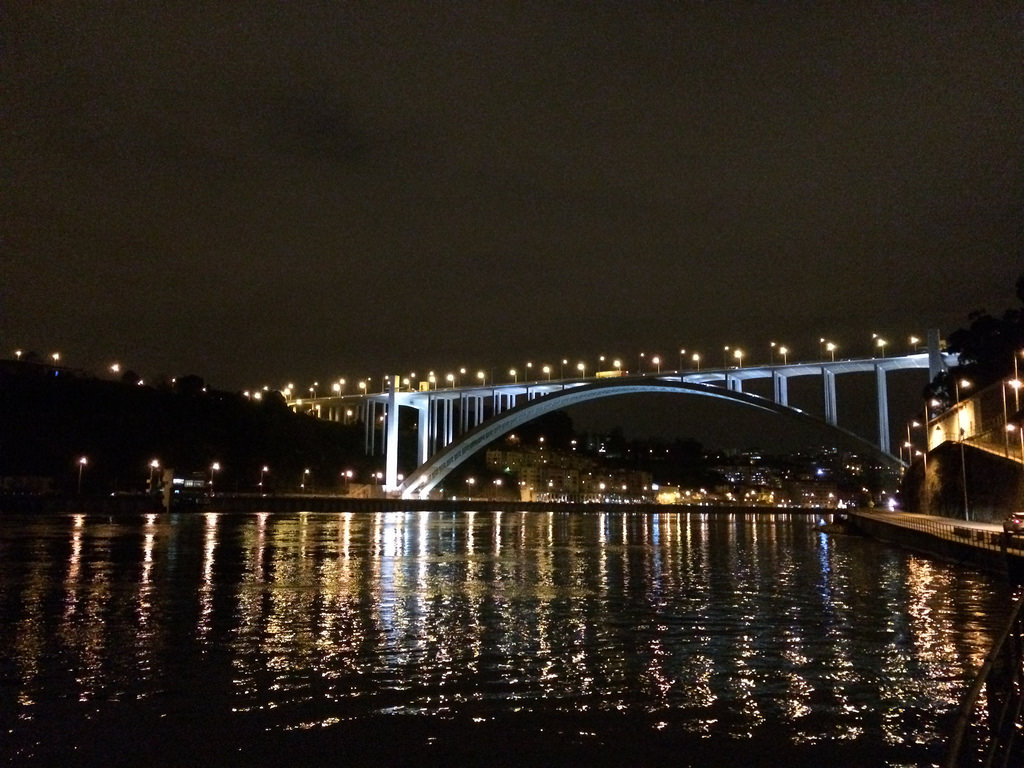arrabida: (285, 327, 961, 501)
